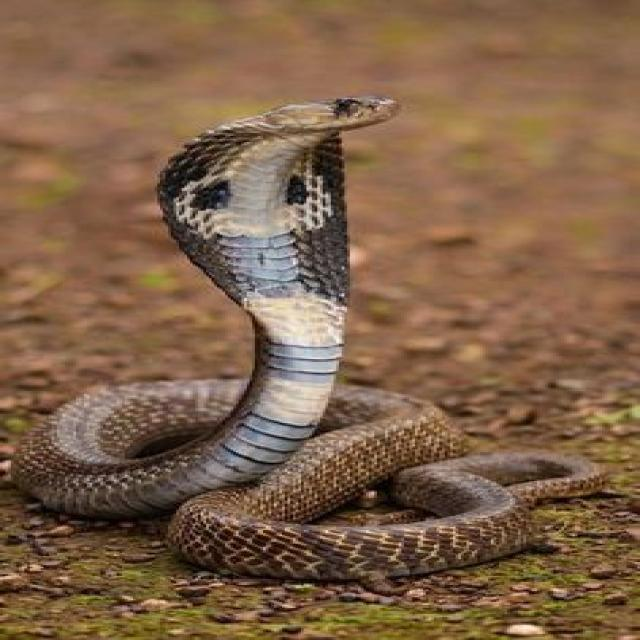Carnivorous: (11, 95, 580, 597)
